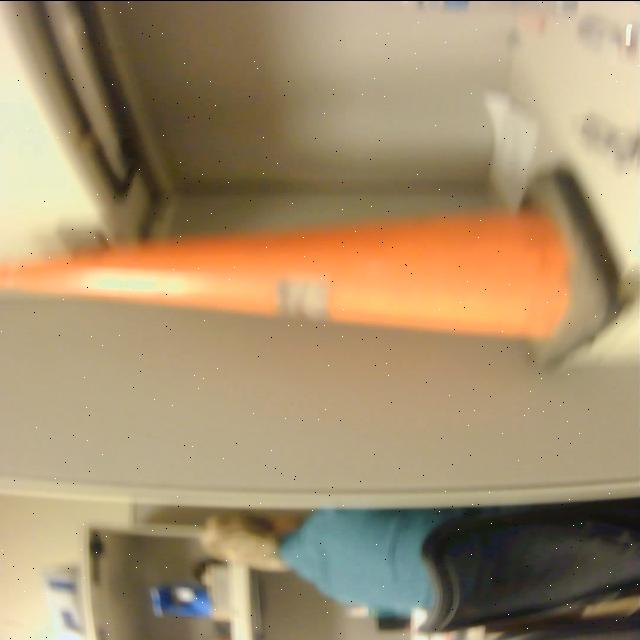traffic cone: (2, 165, 634, 379)
